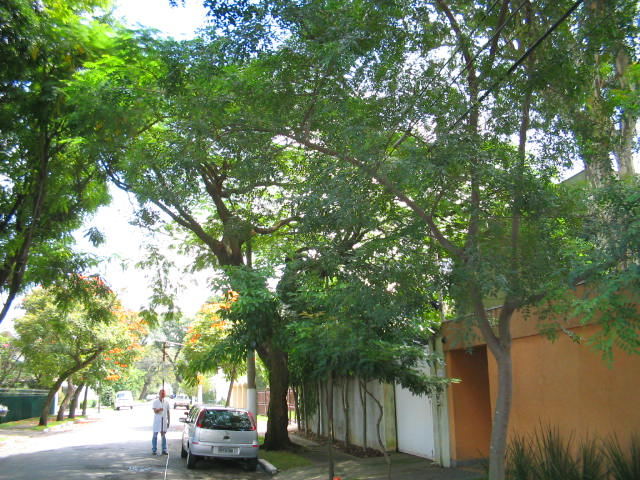stem: (259, 372, 299, 450)
stick: (156, 341, 168, 456)
